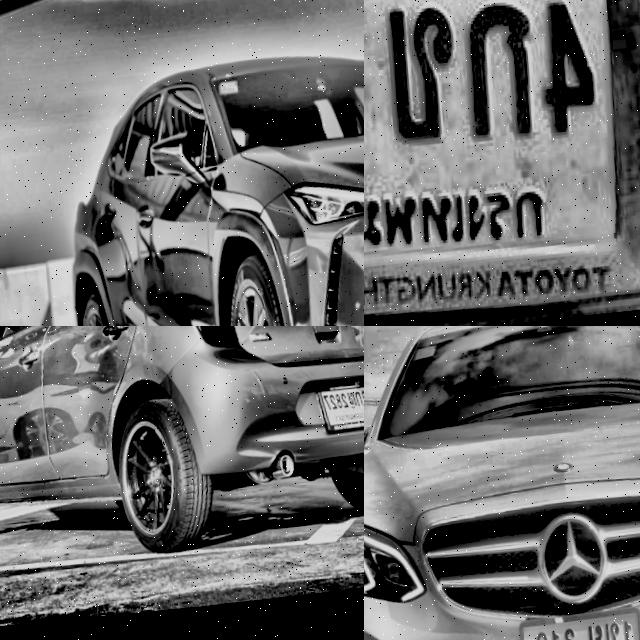license-plate: (364, 0, 640, 326), (304, 387, 364, 442), (513, 615, 640, 640)
